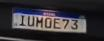Placa_mercosul_carro: (12, 6, 88, 34)
